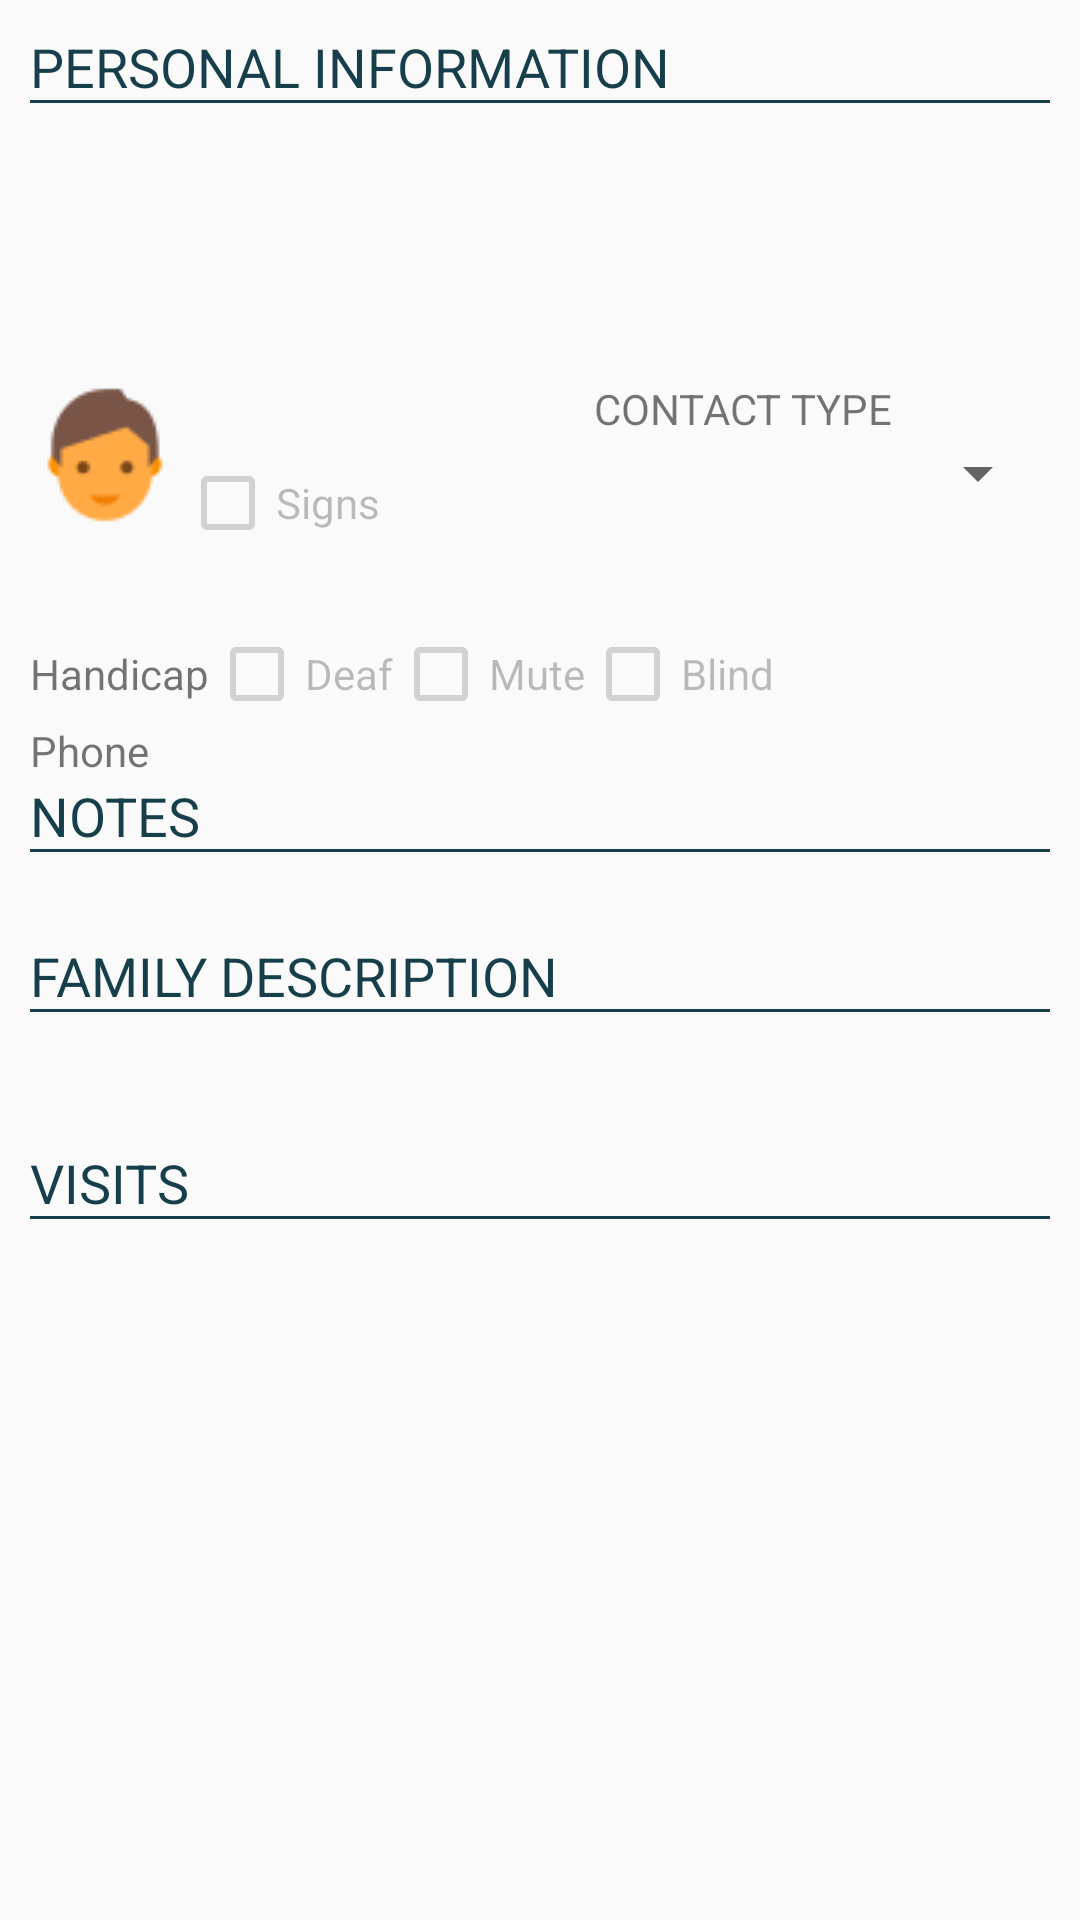

Named icons in this screenshot (1080*1920) and their centers, (x,y):
user male skin type: (105,455)
